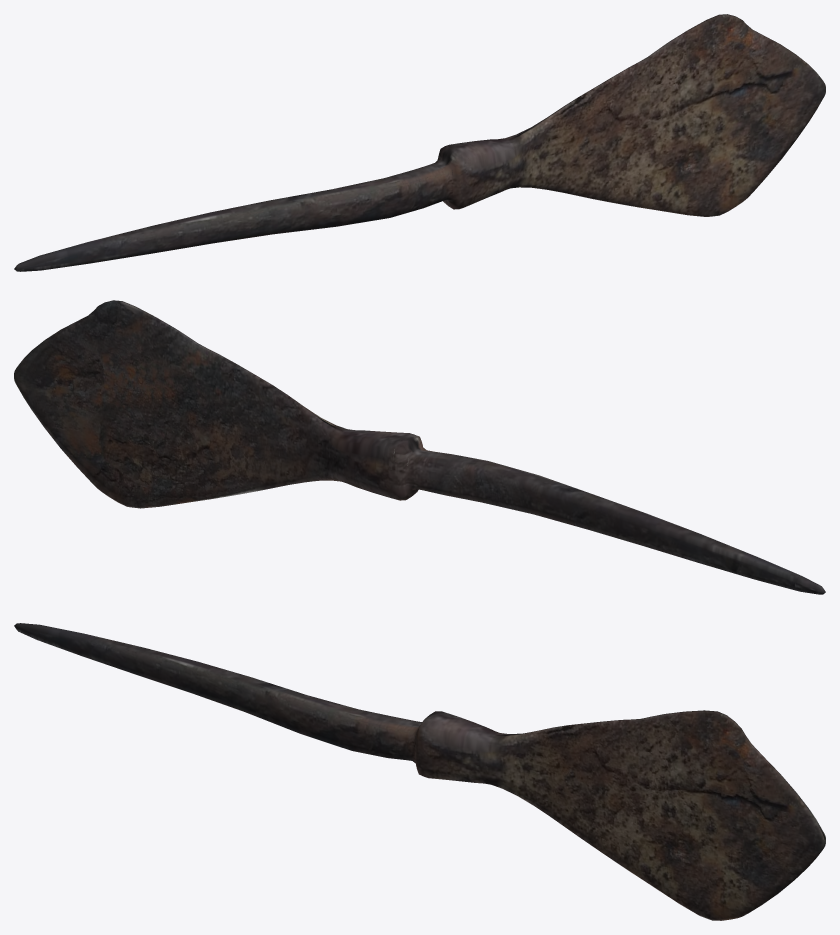
Rendered from arhead1.fbx.
3 renders of one model, top to bottom at view 1: azimuth 30°, elevation 25°; view 2: azimuth 150°, elevation 25°; view 3: azimuth 330°, elevation 25°, orthographic. The views are drawn at different scales.
Parts seen in each view (by area): view 1: Cube; view 2: Cube; view 3: Cube.
Boxes of the visible parts, box(x1,y1,x2,y2) form: Cube: box(14, 14, 825, 271); Cube: box(14, 300, 825, 594); Cube: box(14, 623, 825, 920).
Bounding box in the file's own units: 888 × 212 × 60.66.
Materials: 1 (1 with a texture image).
